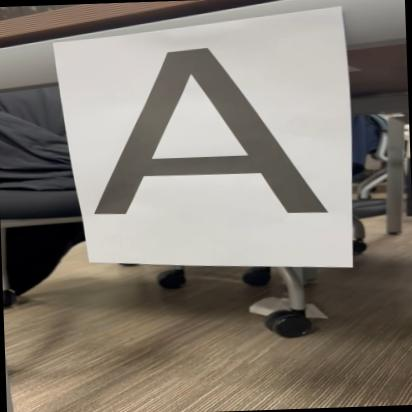seat: (79, 39, 343, 225)
